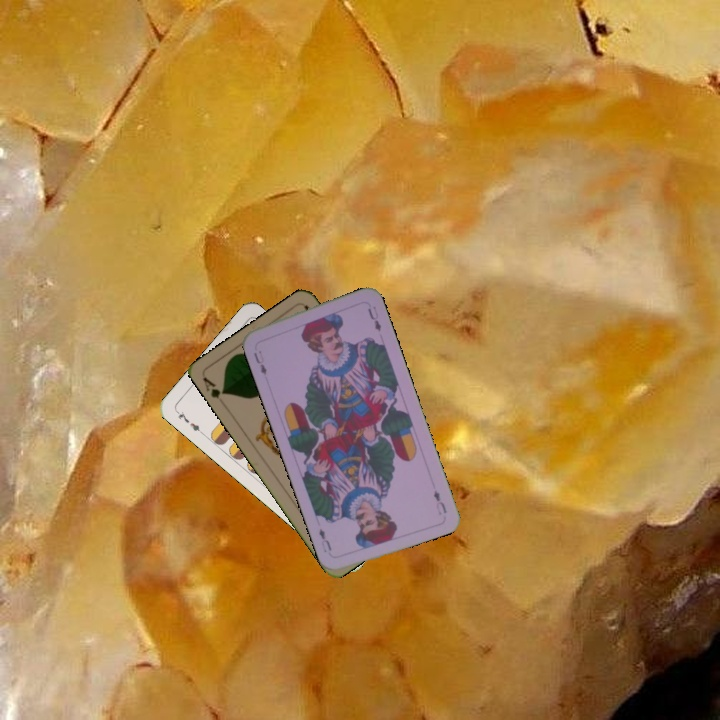E7: (172, 407, 206, 437)
EU: (429, 486, 450, 517), (250, 347, 269, 378)
GA: (199, 373, 230, 402)
